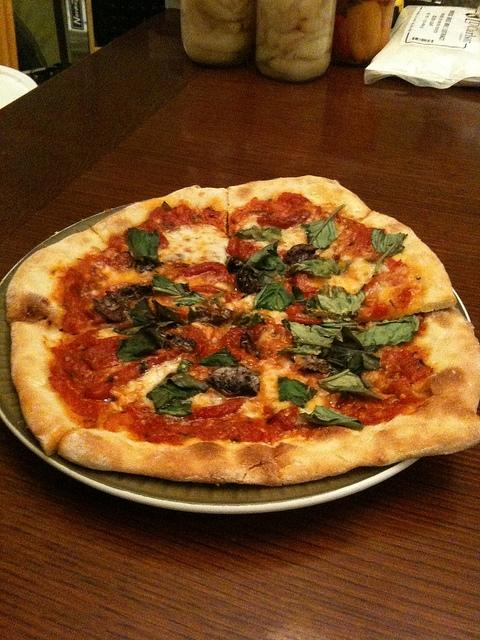mushroom: (204, 365, 260, 398), (92, 290, 132, 322), (188, 307, 231, 328), (283, 244, 318, 266), (236, 267, 263, 295), (292, 354, 329, 374), (162, 333, 197, 351), (118, 284, 154, 300), (240, 332, 262, 356), (225, 256, 246, 274), (146, 259, 156, 271)
